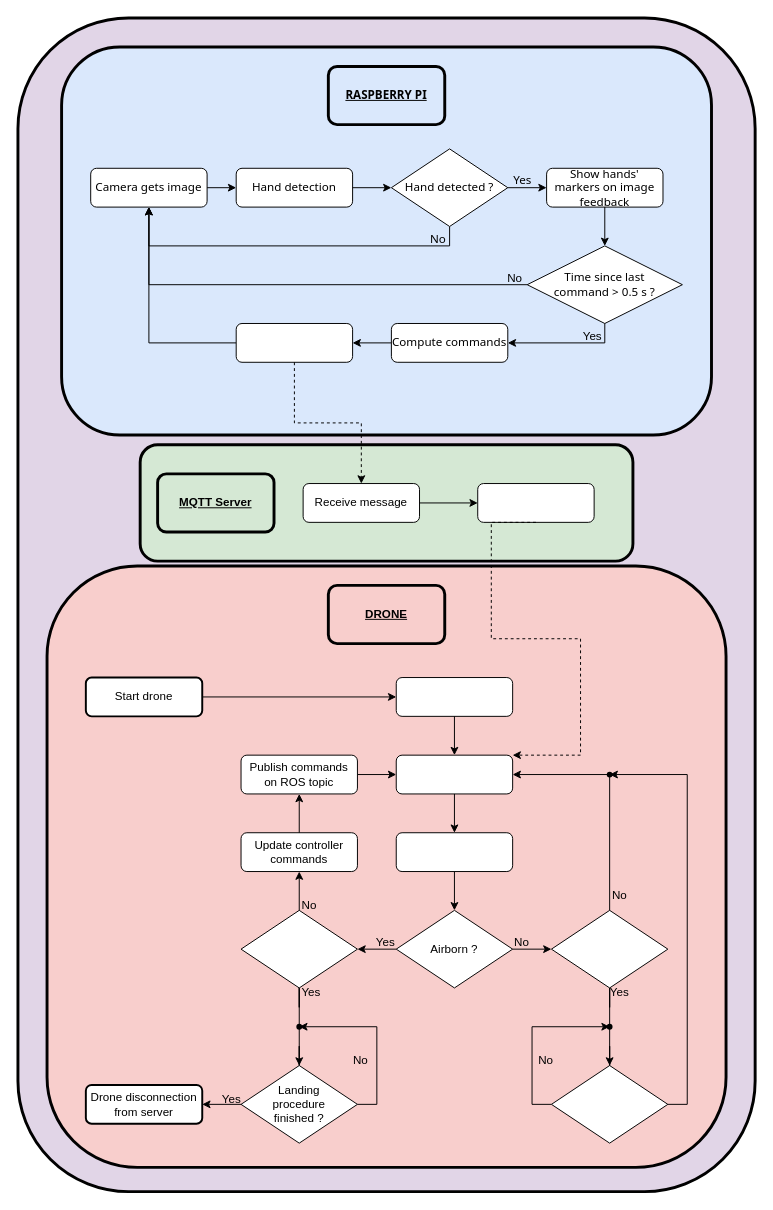
Some shapes in this 773 by 1210 pixel diagram are drawn without their labels. Each missing label, with the centre of its shape:
"Connection to MQTT server" goes at (454,696).
"Identify which instruction to do" goes at (454,852).
"Landing service called ?" goes at (298,948).
"On message received" goes at (454,774).
"Publish commands" goes at (294,342).
"Takeoff procedure finished ?" goes at (609,1104).
"Takeoff service called ?" goes at (609,948).
"Transmit message" goes at (535,502).
